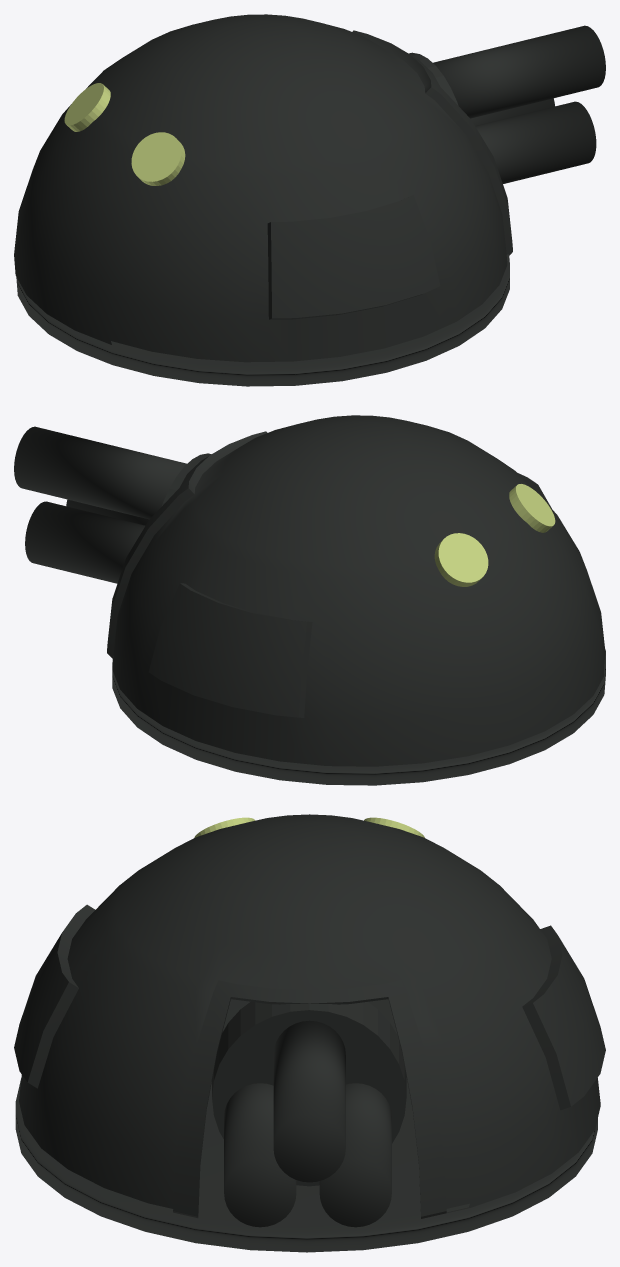
Rendered from gun.obj.
The picture shows the model from 3 angles, top to bottom: view 1: azimuth 30°, elevation 25°; view 2: azimuth 150°, elevation 25°; view 3: azimuth 270°, elevation 25°; orthographic projection. The views are drawn at different scales.
Visible parts, largest first — view 1: Cover, Base, Barrel1, Barrel2, Vents; view 2: Cover, Barrel1, Base, Barrel2, Vents; view 3: Cover, Base, Barrel2, Magazine, Barrel1, Vents.
Boxes of the visible parts, <box> form: Cover: <box>14,14,512,362</box>; Base: <box>16,254,509,386</box>; Barrel1: <box>433,25,605,118</box>; Barrel2: <box>471,98,596,183</box>; Vents: <box>64,83,185,185</box>; Cover: <box>107,415,605,766</box>; Barrel1: <box>14,426,186,519</box>; Base: <box>112,649,605,785</box>; Barrel2: <box>25,499,149,583</box>; Vents: <box>434,484,555,586</box>; Cover: <box>14,814,605,1218</box>; Base: <box>15,999,597,1252</box>; Barrel2: <box>224,1083,391,1227</box>; Magazine: <box>212,1001,406,1186</box>; Barrel1: <box>273,1020,345,1182</box>; Vents: <box>194,817,424,837</box>.
Size of the model in its own units: 2.54 by 1.09 by 2.03.
